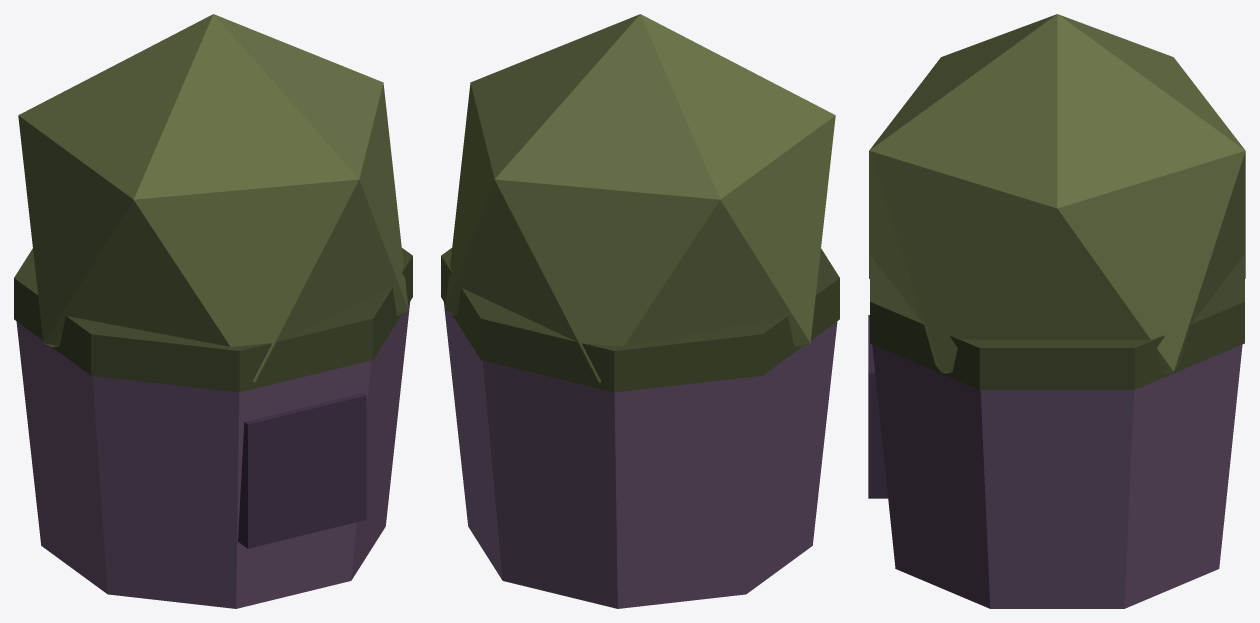
The model's file is inf_brute_upper_arm_l.fbx.
3 views of the same model, side by side, from view 1: azimuth 30°, elevation 25°; view 2: azimuth 150°, elevation 25°; view 3: azimuth 270°, elevation 25° (orthographic).
Parts seen in each view (by area): view 1: inf_brute_upper_arm_l; view 2: inf_brute_upper_arm_l; view 3: inf_brute_upper_arm_l.
Part boxes in pixels (<box>): inf_brute_upper_arm_l: <box>14,14,412,608</box>; inf_brute_upper_arm_l: <box>441,14,839,608</box>; inf_brute_upper_arm_l: <box>868,14,1245,608</box>.
Size of the model in its own units: 85.86 by 126 by 81.83.
